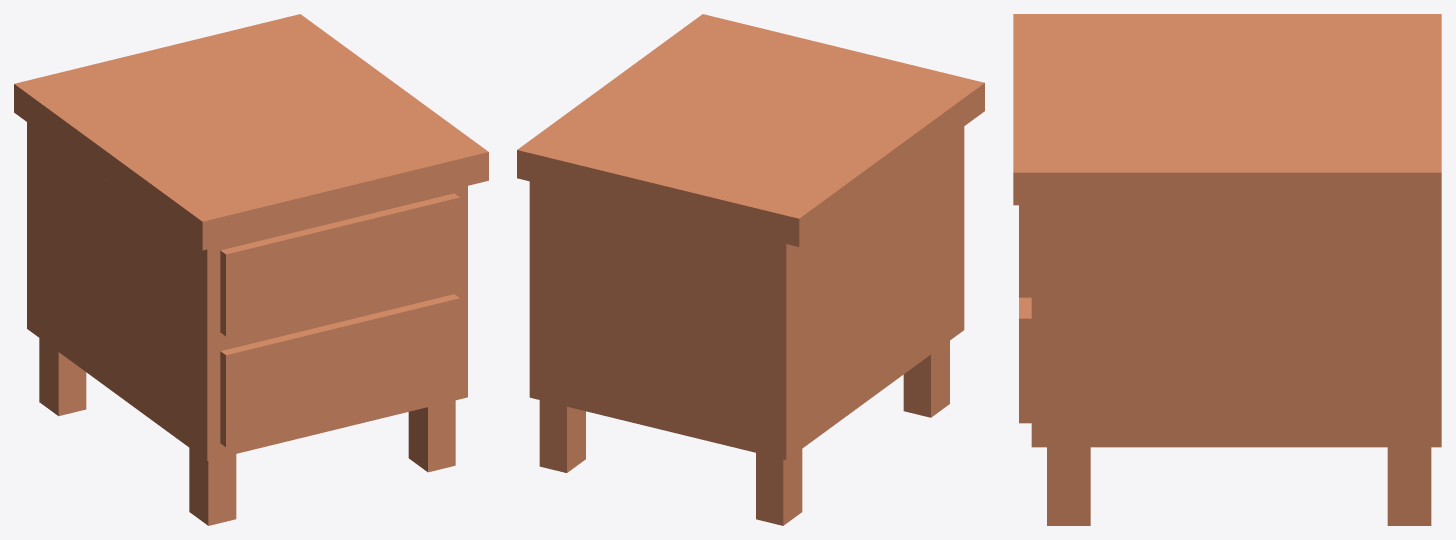
Rendered from SM_Furniture_Bedroom_Drawers_01.fbx.
The picture shows the model from 3 angles, left to right: view 1: azimuth 30°, elevation 25°; view 2: azimuth 150°, elevation 25°; view 3: azimuth 270°, elevation 25°; orthographic projection. The views are drawn at different scales.
Visible parts, largest first — view 1: Bedroom_Drawers_01; view 2: Bedroom_Drawers_01; view 3: Bedroom_Drawers_01.
Boxes of the visible parts, x1=… form: Bedroom_Drawers_01: x1=14, y1=14, x2=488, y2=525; Bedroom_Drawers_01: x1=517, y1=14, x2=984, y2=525; Bedroom_Drawers_01: x1=1013, y1=14, x2=1441, y2=525.
Bounding box in the file's own units: 54.95 × 58.71 × 62.66.
